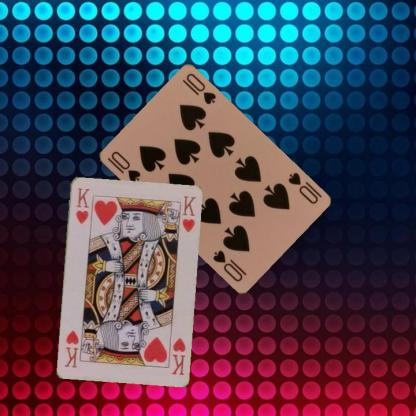10s: (104, 148, 142, 184), (285, 170, 319, 206)
Kh: (73, 185, 91, 226), (168, 335, 186, 376)
